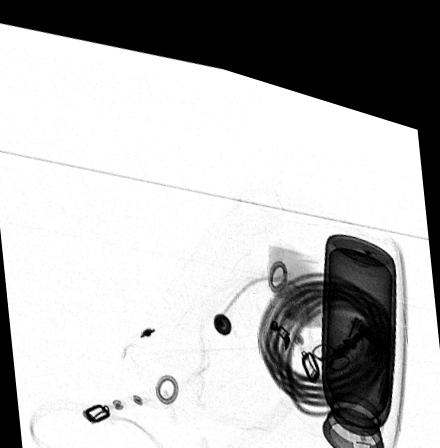Scissors: (310, 302, 370, 353)
